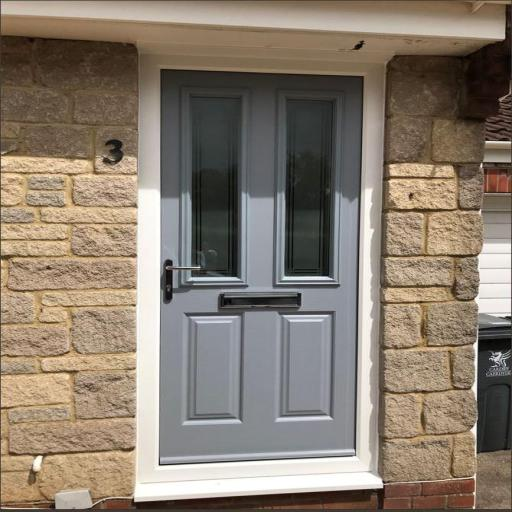door: (130, 56, 390, 508)
